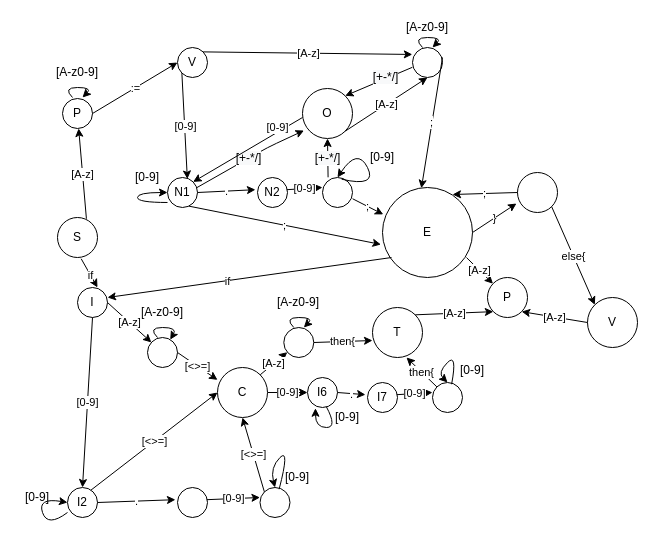
The diagram is 655 pixels wide and 537 high, and some of its shapes have lost their labels. Each missing label, with the box of its shape:
I1: (146, 336, 178, 368)
I3: (176, 486, 208, 518)
I4: (259, 486, 290, 518)
I5: (283, 326, 314, 358)
I8: (432, 382, 462, 412)
L2: (516, 172, 558, 212)
N3: (322, 176, 352, 208)
P1: (412, 46, 442, 78)
